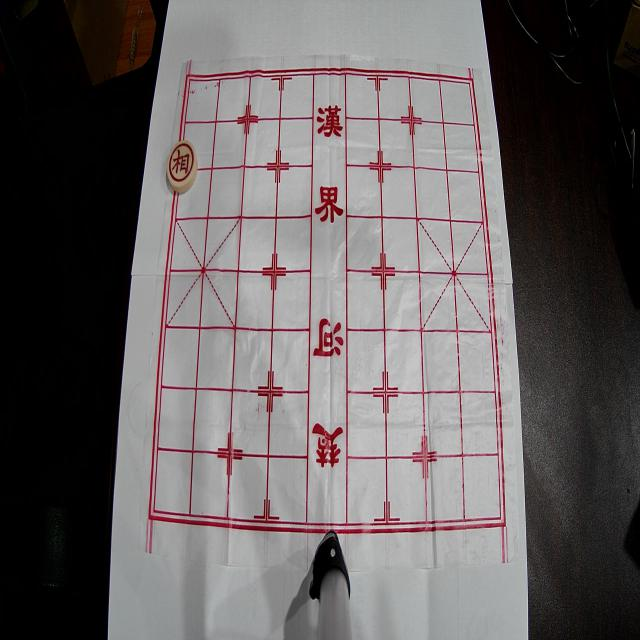red-elephant: (167, 140, 198, 193)
